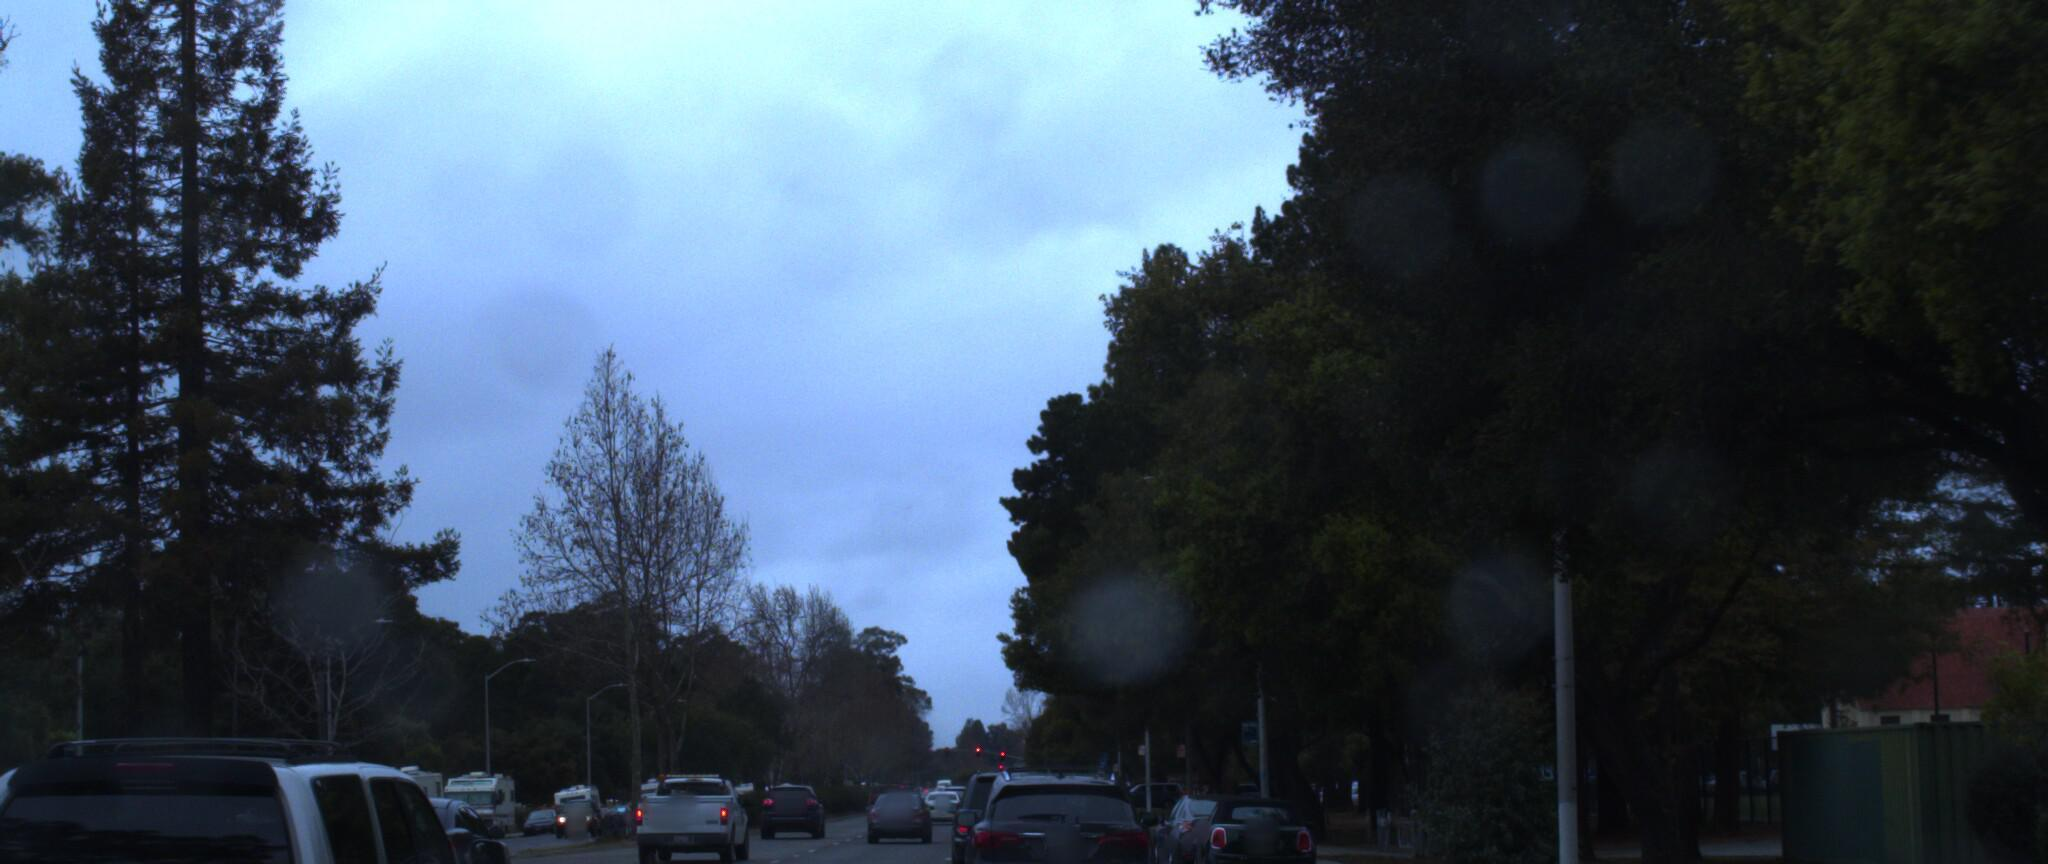car: (0, 697, 542, 864), (957, 754, 1169, 864), (1173, 761, 1331, 864), (914, 745, 1051, 864), (319, 791, 522, 864), (633, 753, 758, 863), (1135, 773, 1277, 864)
